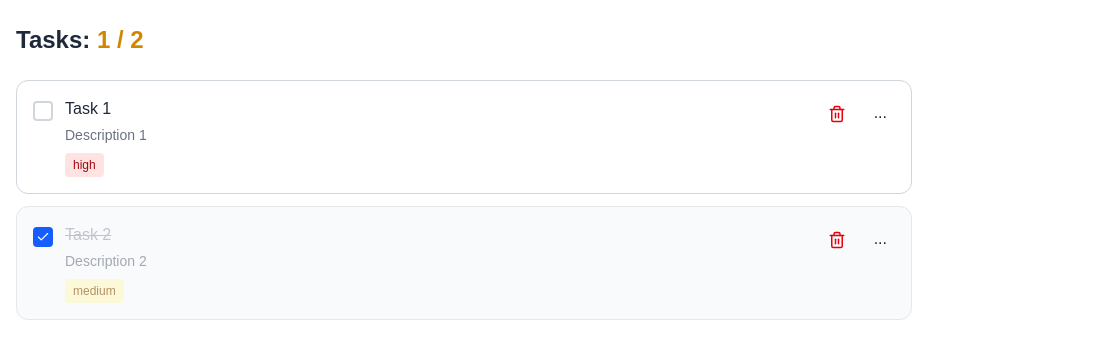
Test: TasksSection › Task Toggle › should handle toggle error
The image size is (1104, 337).
Expected: the heading "Task 1" is shown, [65, 100, 111, 117]
Click the button named "Toggle task completion" next to "Task 1" at (43, 111), box [33, 101, 53, 121]
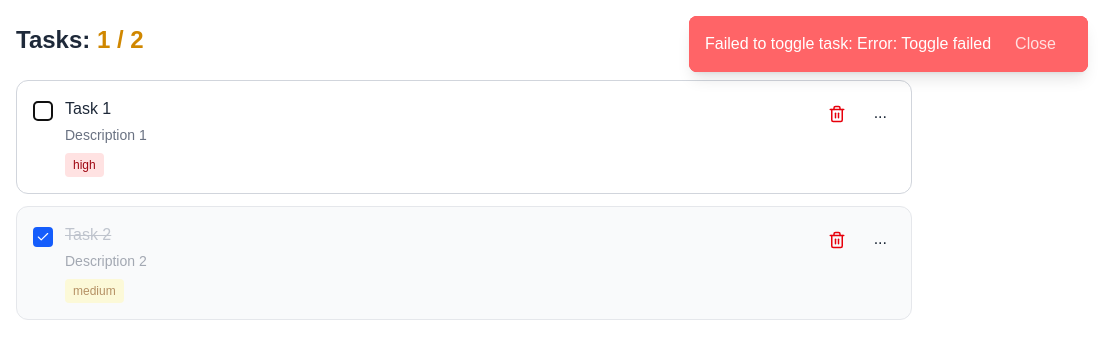
Now the text "Failed to toggle task: Error: Toggle failed Close" is shown, box [705, 28, 1072, 60]
